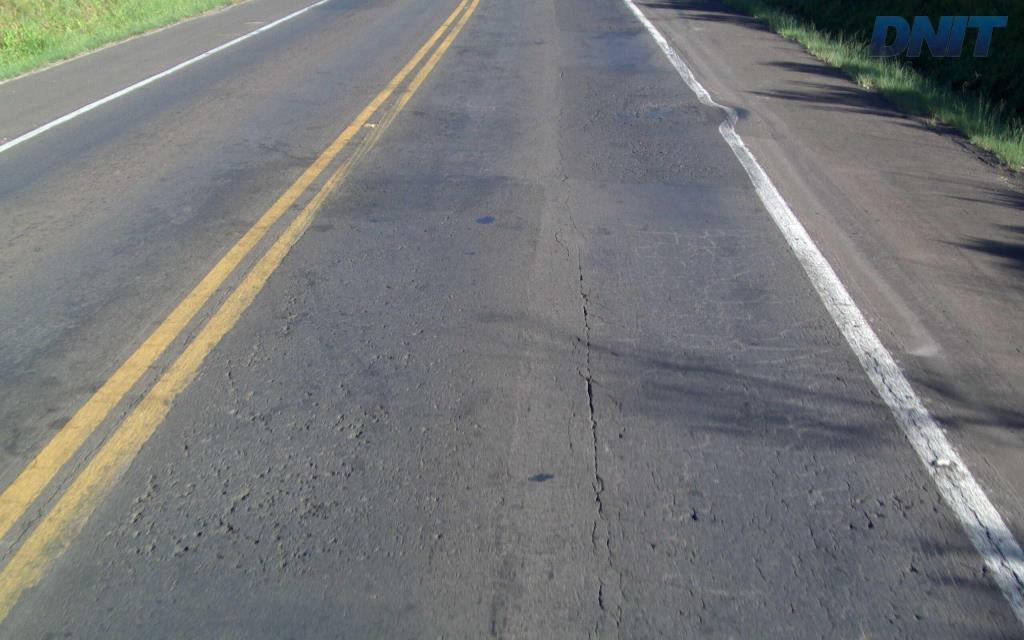crack: (576, 367, 604, 519)
